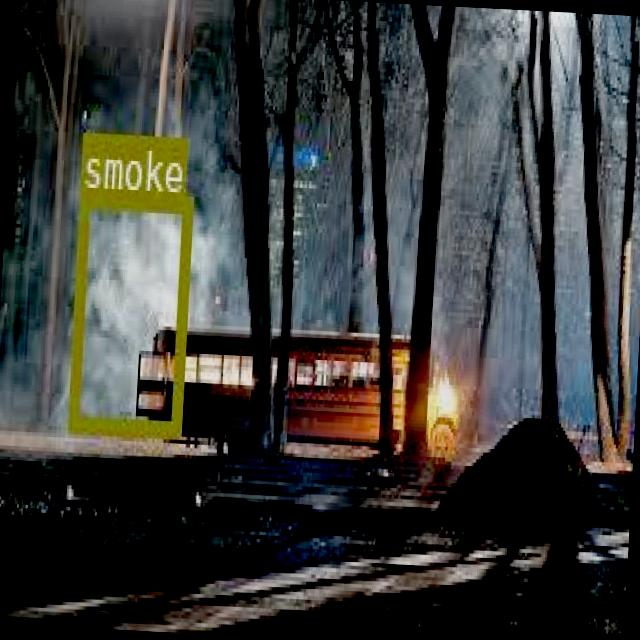smoke: (66, 188, 190, 436)
